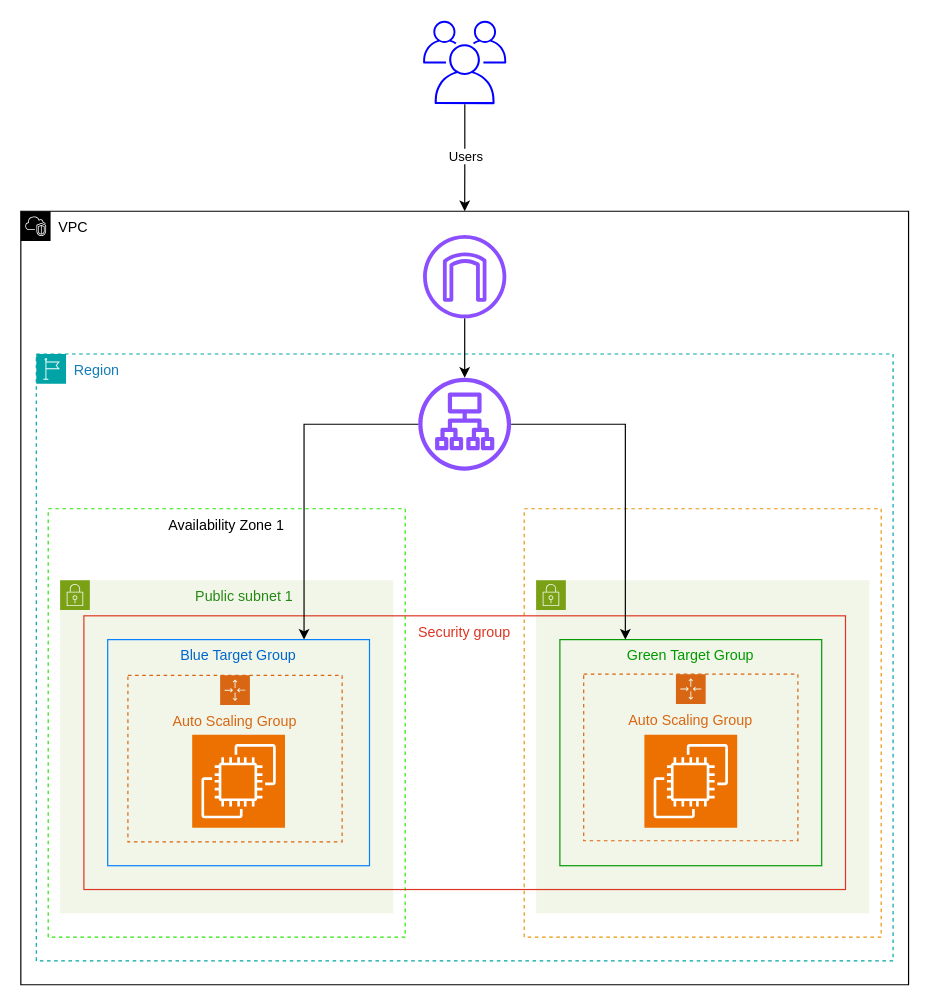
Image size: 929x1006. Some labels were removed from this diagram. The shapes that lost their labels are listed below. From the top down, each one's box as (x1, y1, x2, y2) in pixels, then its label:
(422, 234, 506, 318): Internet Gateway
(418, 377, 511, 470): Application Load Balancer
(523, 508, 881, 937): Availability Zone 2
(535, 579, 869, 913): Public subnet 2
